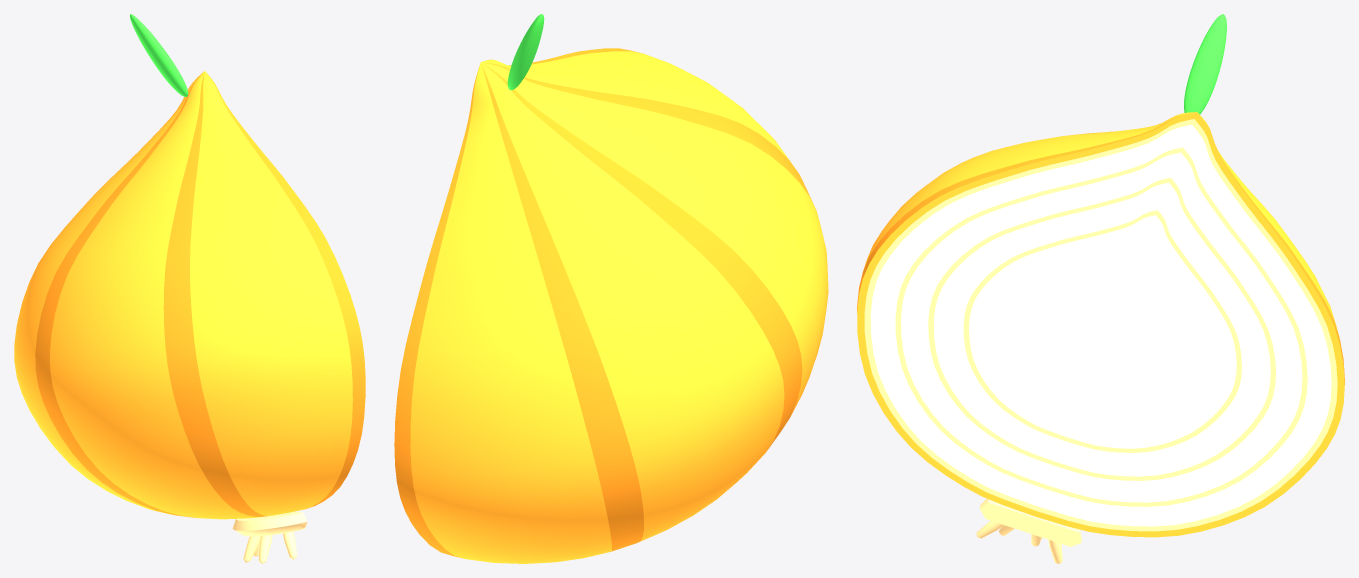
The picture shows the model from 3 angles, left to right: view 1: azimuth 30°, elevation 25°; view 2: azimuth 150°, elevation 25°; view 3: azimuth 270°, elevation 25°; orthographic projection. The views are drawn at different scales.
Visible parts, largest first — view 1: Onion-left; view 2: Onion-left; view 3: Onion-left.
Part boxes in pixels (left/top/right/bottom): Onion-left: left=14, top=14, right=365, bottom=563; Onion-left: left=394, top=14, right=828, bottom=563; Onion-left: left=857, top=14, right=1344, bottom=563.
Size of the model in its own units: 0.0296 by 0.0683 by 0.0574.
